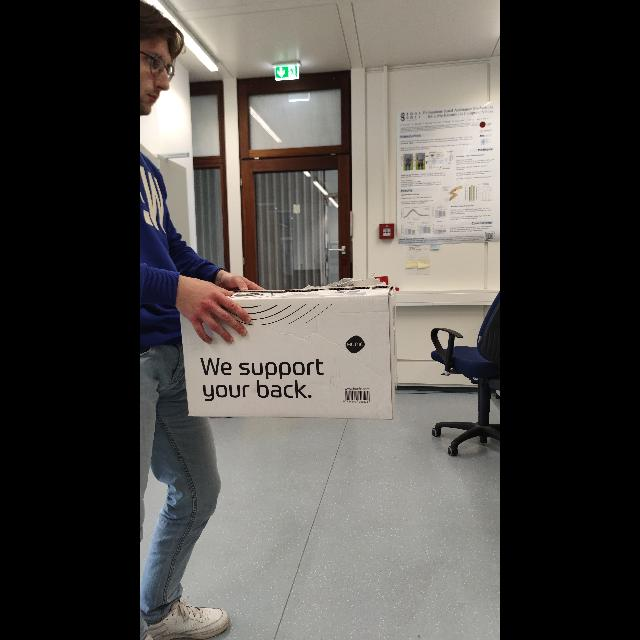cardboard_box: (174, 249, 400, 443)
